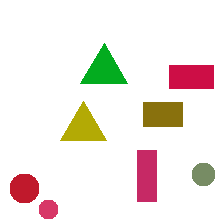circle: (10, 174, 38, 202), (192, 163, 214, 185), (39, 200, 57, 218)
rectangle: (169, 65, 213, 88), (137, 150, 156, 201), (143, 102, 182, 126)
triangle: (80, 43, 127, 83), (60, 101, 106, 140)
